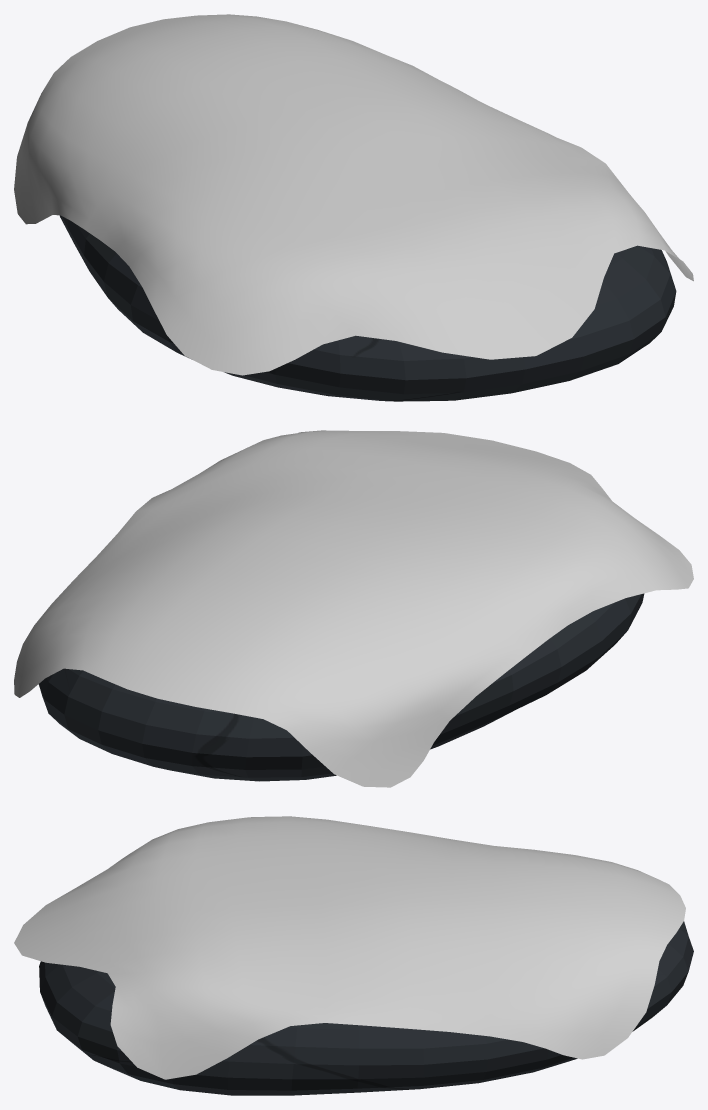
The model's file is Bed.fbx.
3 renders of one model, top to bottom at view 1: azimuth 30°, elevation 25°; view 2: azimuth 150°, elevation 25°; view 3: azimuth 270°, elevation 25°, orthographic. The views are drawn at different scales.
Visible parts, largest first — view 1: BedFur, Bed; view 2: BedFur, Bed; view 3: BedFur, Bed.
Boxes of the visible parts, <box> form: BedFur: <box>14,14,693,375</box>; Bed: <box>59,215,676,401</box>; BedFur: <box>14,430,693,787</box>; Bed: <box>38,593,644,781</box>; BedFur: <box>14,816,685,1079</box>; Bed: <box>39,921,693,1095</box>.
Bounding box in the file's own units: 123 × 41.89 × 171.
